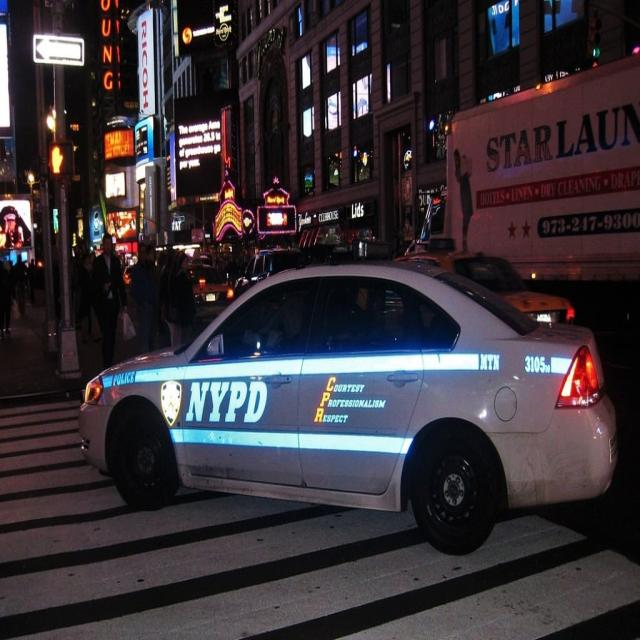cop: (79, 261, 622, 556)
